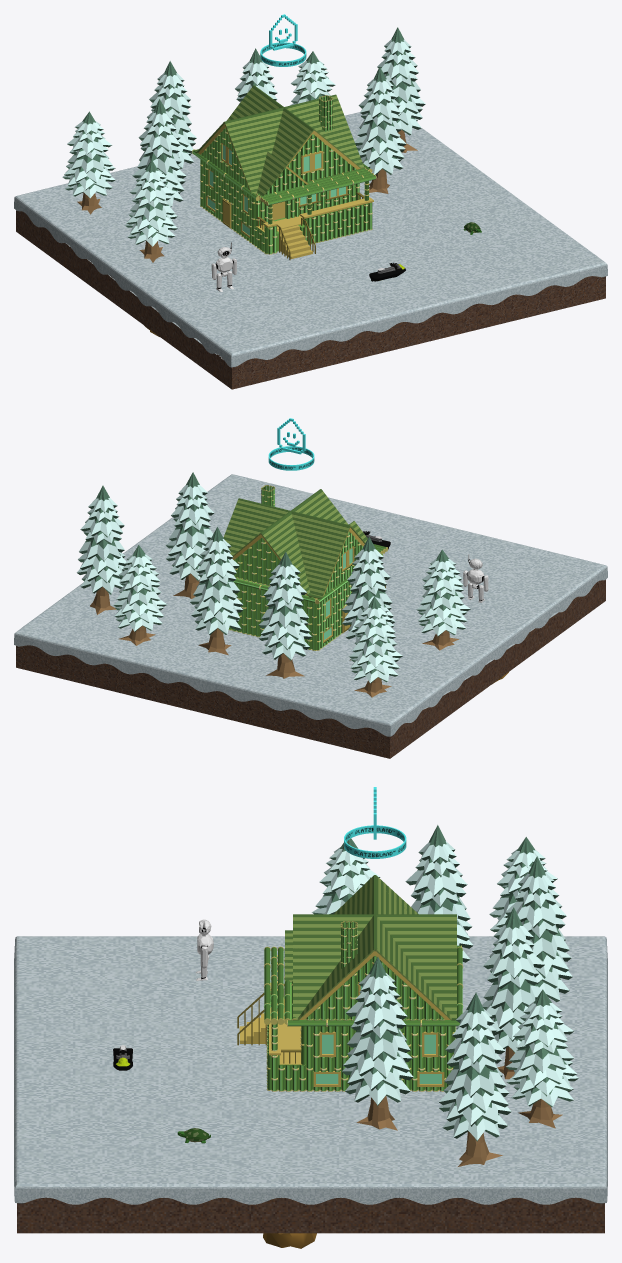
The picture shows the model from 3 angles, top to bottom: view 1: azimuth 30°, elevation 25°; view 2: azimuth 150°, elevation 25°; view 3: azimuth 270°, elevation 25°; orthographic projection. The views are drawn at different scales.
Visible parts, largest first — view 1: Cube.003, Cube.1327, TYPE_PREMIUM, OBJRANDOM_PLATZEEBOT; view 2: Cube.003, Cube.1327, TYPE_PREMIUM, OBJRANDOM_PLATZEEBOT; view 3: Cube.003, Cube.1327, TYPE_PREMIUM, OBJRANDOM_PLATZEEBOT, UNDERGROUND_T_REX_BONES.
Boxes of the visible parts, x1,y1,x2,y2 form: Cube.003: [14, 27, 607, 389]; Cube.1327: [191, 85, 376, 260]; TYPE_PREMIUM: [260, 14, 306, 66]; OBJRANDOM_PLATZEEBOT: [211, 242, 236, 291]; Cube.003: [14, 472, 607, 758]; Cube.1327: [223, 485, 388, 650]; TYPE_PREMIUM: [268, 418, 314, 470]; OBJRANDOM_PLATZEEBOT: [463, 554, 488, 602]; Cube.003: [14, 825, 607, 1233]; Cube.1327: [237, 875, 463, 1091]; TYPE_PREMIUM: [344, 787, 406, 858]; OBJRANDOM_PLATZEEBOT: [195, 919, 213, 980]; UNDERGROUND_T_REX_BONES: [263, 1233, 316, 1248].
Bounding box in the file's own units: 4040 × 2580 × 4040.
Materials: 29 (5 with a texture image).
